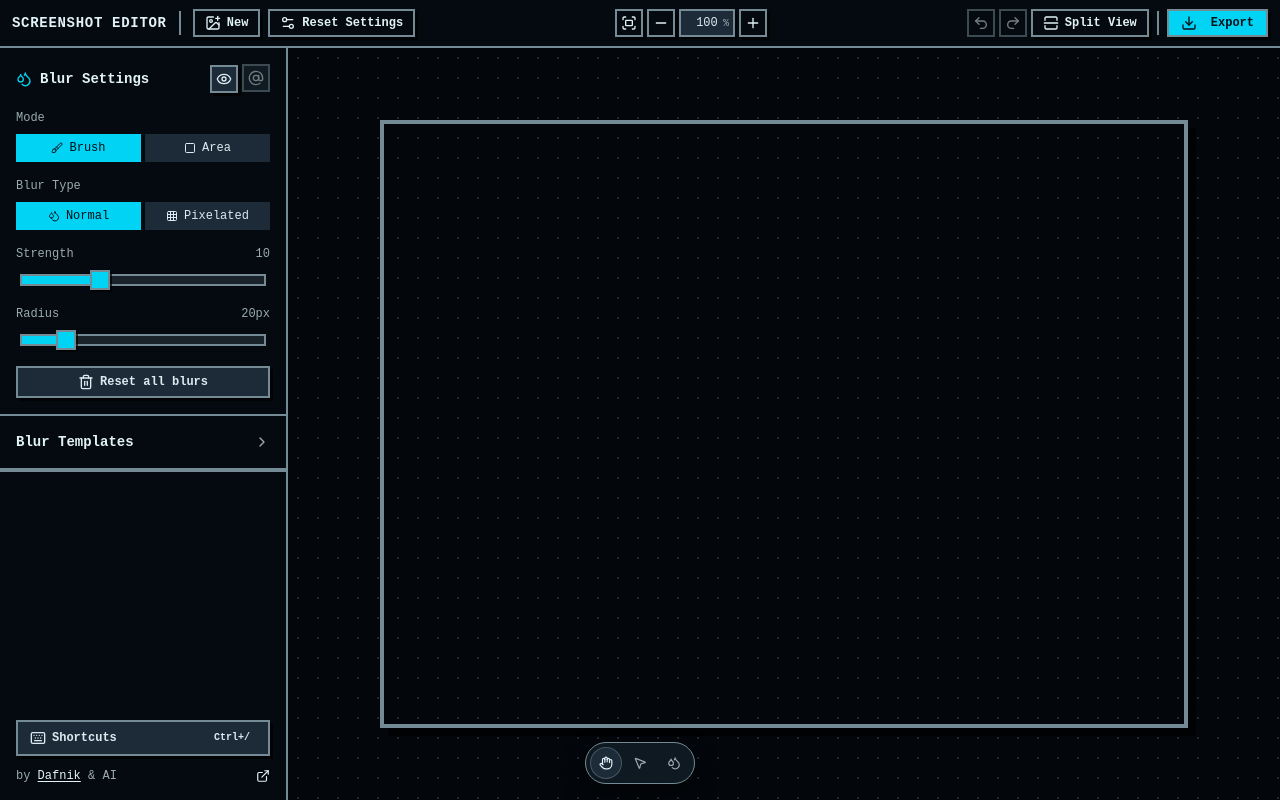
Test case: EditorToolbar shortcut tooltips › opens custom reset modal from New button when skip preference is disabled
Click the button "New" at coordinates (226, 23), box [193,9,260,37]
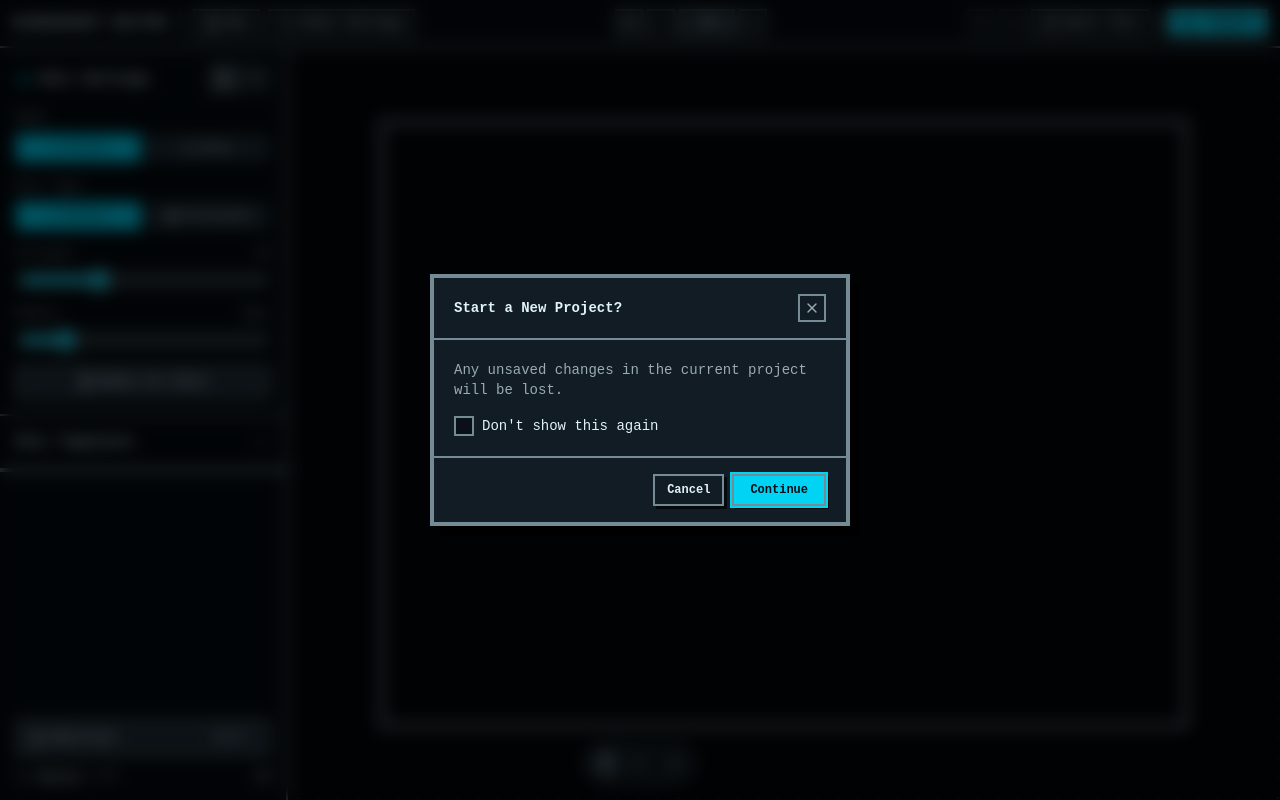
Expected: the heading "Start a New Project?" is shown, [454,298,622,318]
Click the button "Cancel" at coordinates (689, 490), box [653,474,724,506]
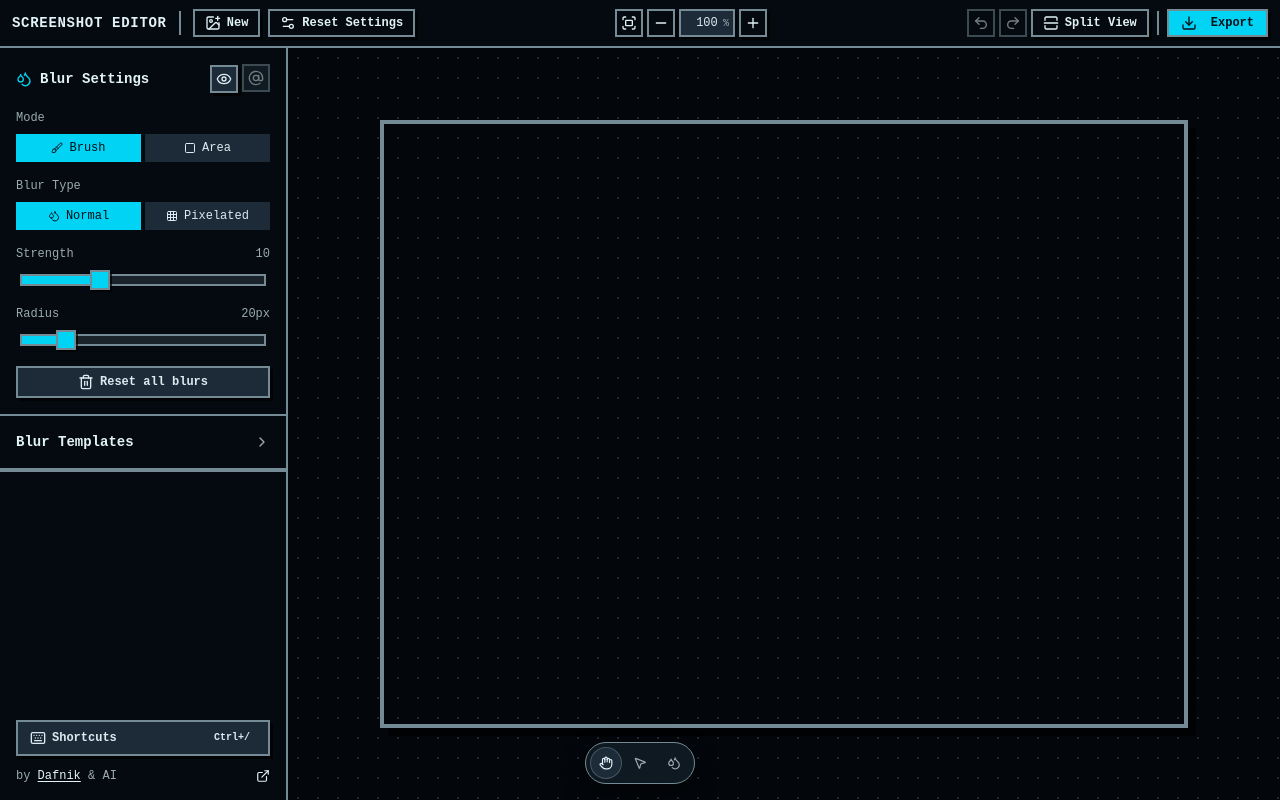
Expected: the heading "Start a New Project?" is gone
